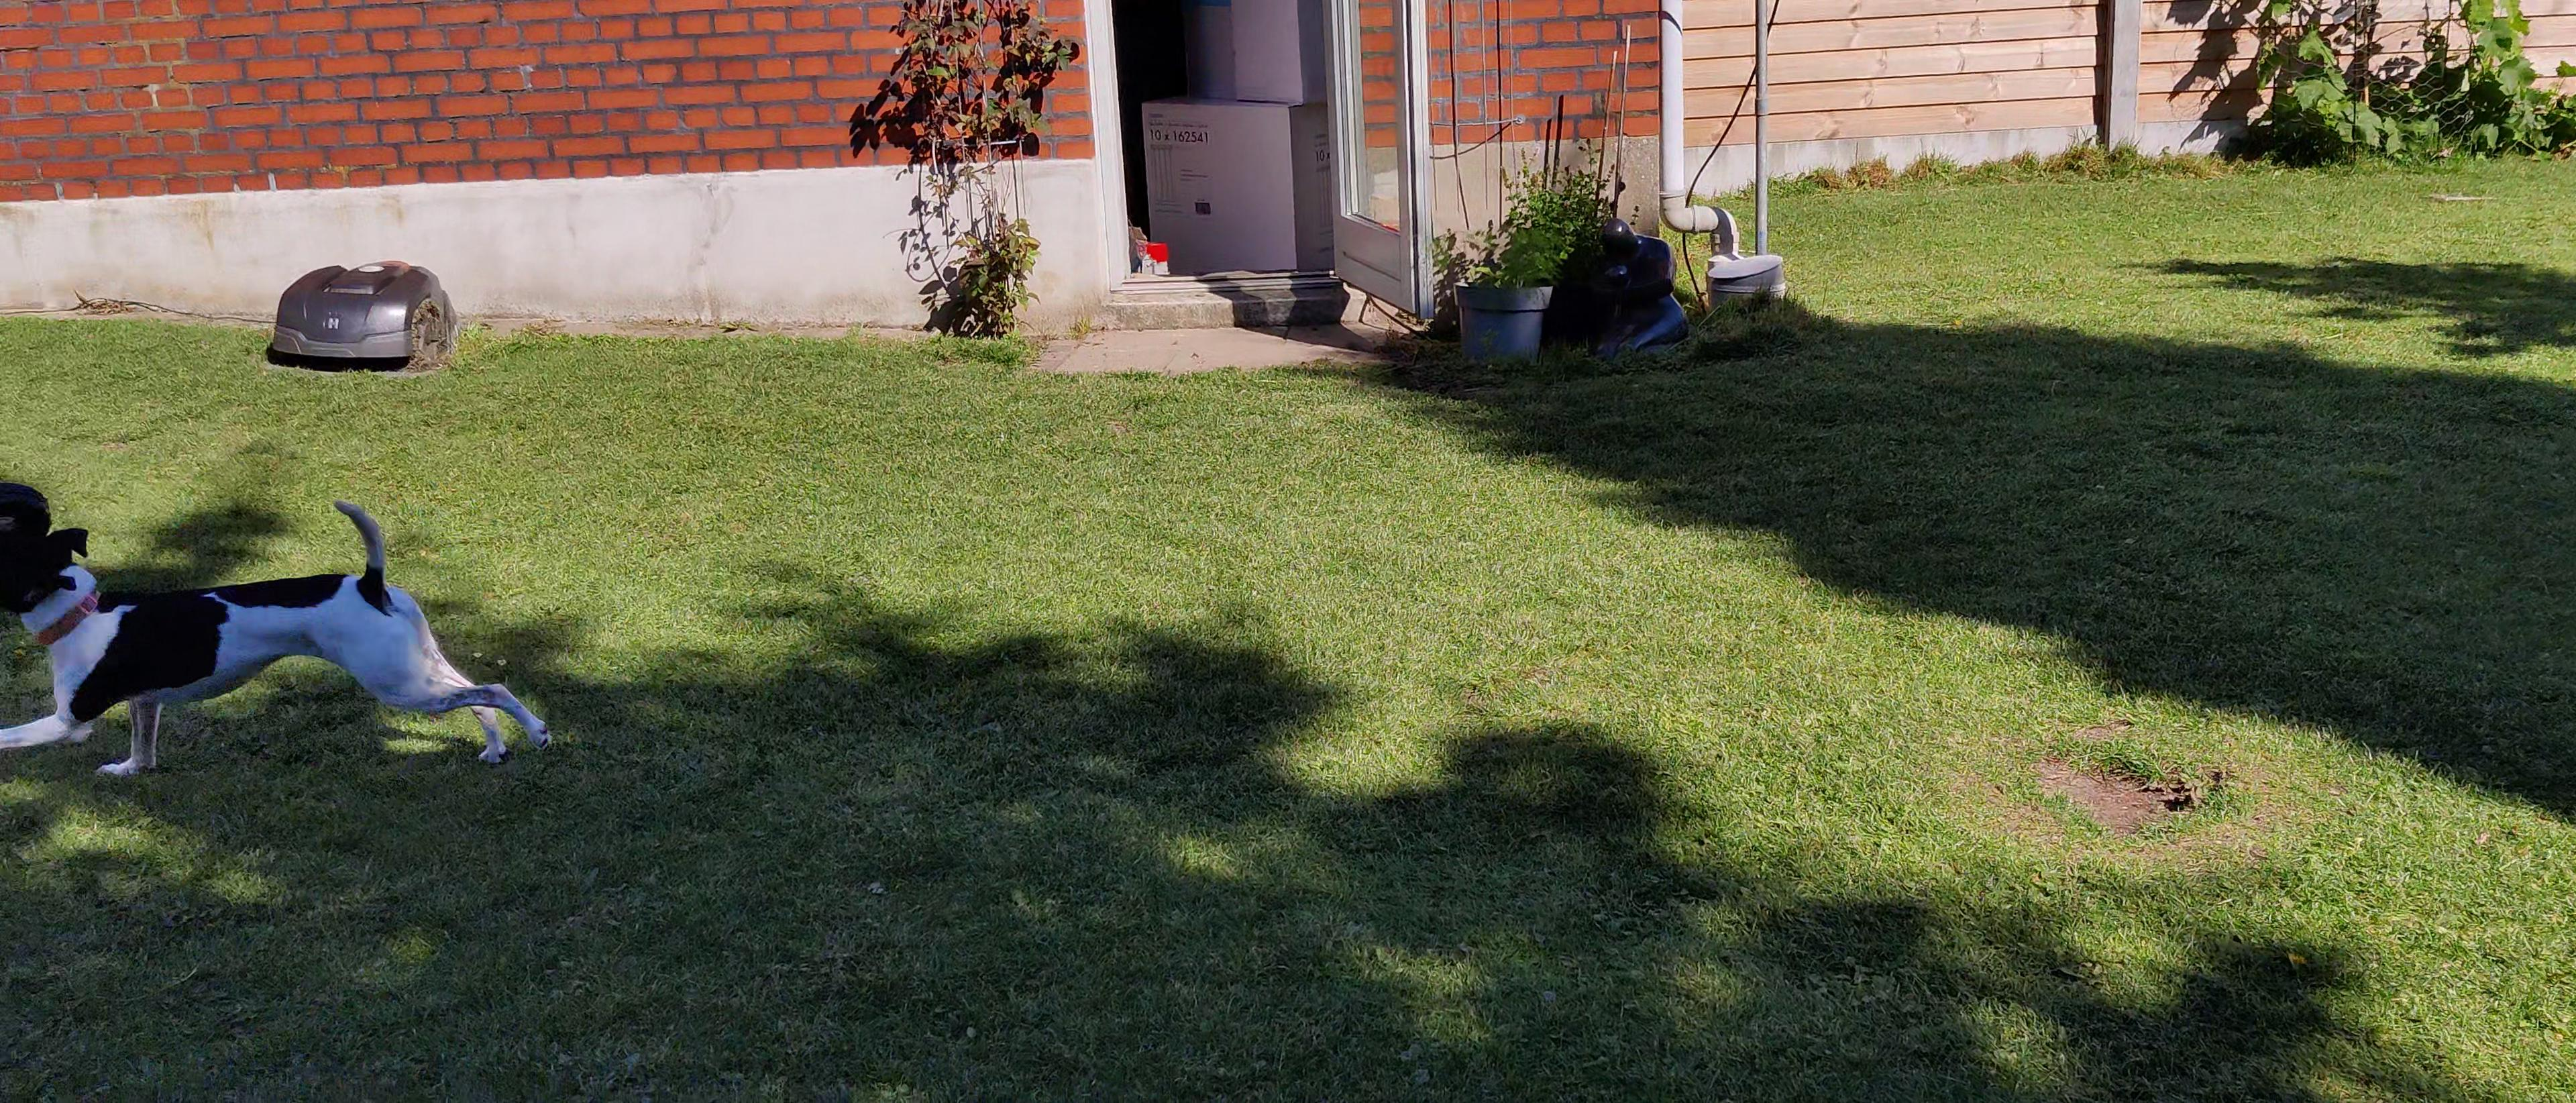Dog: (0, 467, 562, 805)
